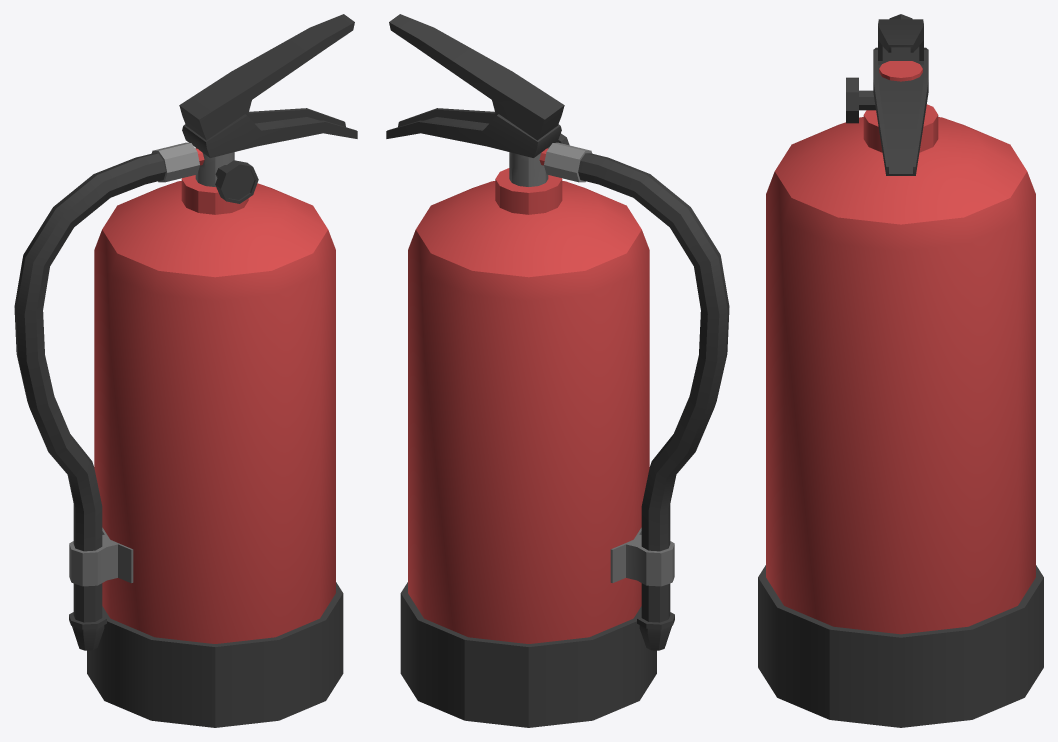
The model's file is fire-extinguisher.fbx.
3 views of the same model, side by side, from view 1: azimuth 30°, elevation 25°; view 2: azimuth 150°, elevation 25°; view 3: azimuth 270°, elevation 25° (orthographic). The views are drawn at different scales.
Visible parts, largest first — view 1: main-cylinder; view 2: main-cylinder; view 3: main-cylinder.
Boxes of the visible parts, x1,y1,x2,y2 form: main-cylinder: [14, 14, 357, 727]; main-cylinder: [386, 14, 729, 727]; main-cylinder: [758, 14, 1043, 727].
Size of the model in its own units: 73.93 by 131 by 48.88.
